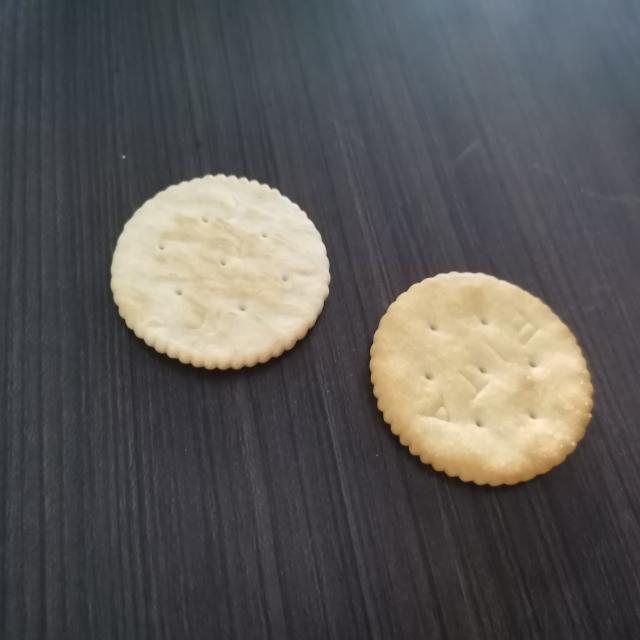Intact: (357, 261, 611, 500), (99, 164, 345, 384)
